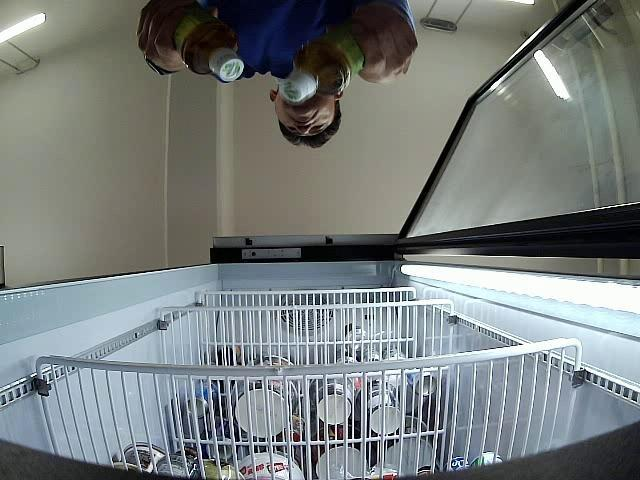19_17cha: (280, 27, 364, 102), (174, 13, 246, 82)
